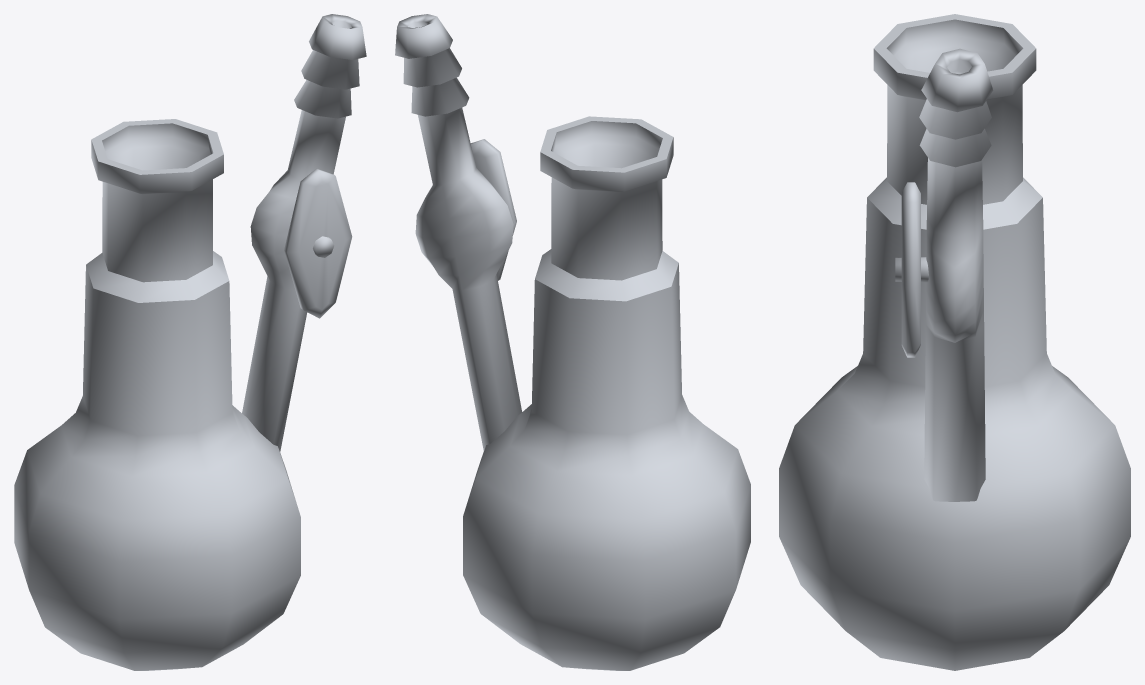
File: bottle_glassware_schlenk_flask_medium.fbx
The picture shows the model from 3 angles, left to right: view 1: azimuth 30°, elevation 25°; view 2: azimuth 150°, elevation 25°; view 3: azimuth 270°, elevation 25°; orthographic projection. The views are drawn at different scales.
Visible parts, largest first — view 1: bottle_glassware_schlenk_flask_medium, bottle_glassware_schlenk_flask_medium_knob; view 2: bottle_glassware_schlenk_flask_medium, bottle_glassware_schlenk_flask_medium_knob; view 3: bottle_glassware_schlenk_flask_medium, bottle_glassware_schlenk_flask_medium_knob.
Part boxes in pixels (x1=…): bottle_glassware_schlenk_flask_medium: x1=14, y1=14, x2=366, y2=670; bottle_glassware_schlenk_flask_medium_knob: x1=284, y1=168, x2=352, y2=318; bottle_glassware_schlenk_flask_medium: x1=395, y1=14, x2=750, y2=670; bottle_glassware_schlenk_flask_medium_knob: x1=470, y1=139, x2=516, y2=280; bottle_glassware_schlenk_flask_medium: x1=779, y1=14, x2=1130, y2=670; bottle_glassware_schlenk_flask_medium_knob: x1=901, y1=182, x2=920, y2=357.
Bounding box in the file's own units: 1421 × 2390 × 1090.
1 material, 1 textured.
